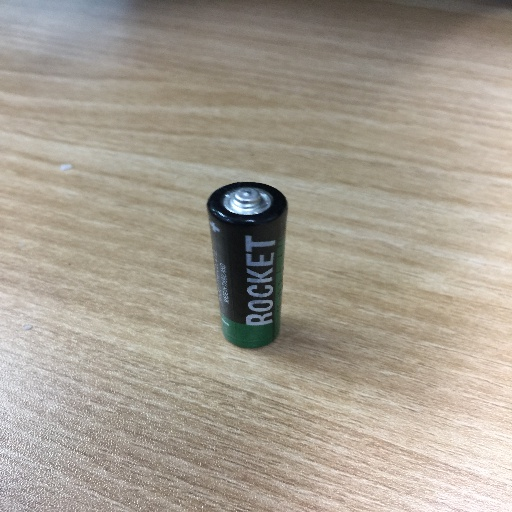Battery_0: (199, 173, 301, 360)
